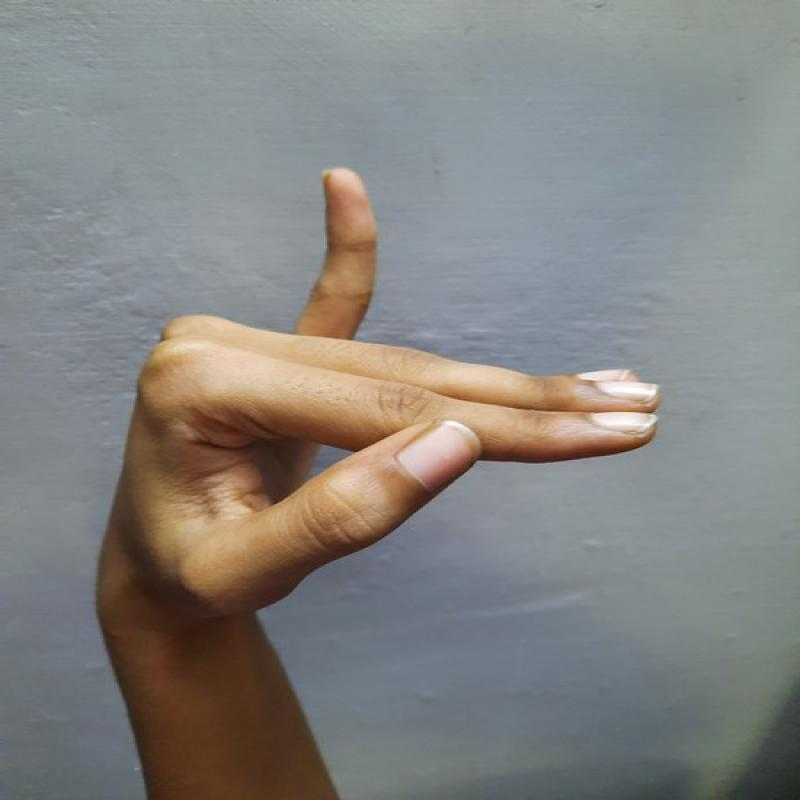Kartharee Mukham: (82, 154, 672, 659)
